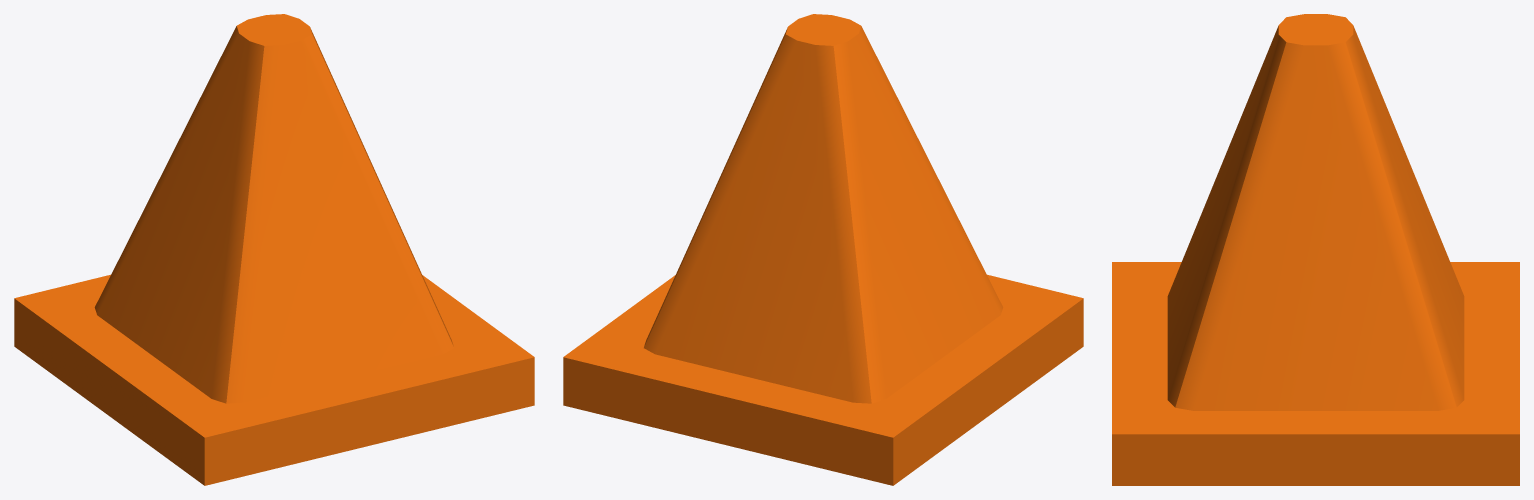
The model's file is parking cone.fbx.
3 renders of one model, left to right at view 1: azimuth 30°, elevation 25°; view 2: azimuth 150°, elevation 25°; view 3: azimuth 270°, elevation 25°, orthographic. The views are drawn at different scales.
Parts seen in each view (by area): view 1: parking_cone; view 2: parking_cone; view 3: parking_cone.
Part boxes in pixels (x1,y1,x2,y2): parking_cone: (14, 14, 534, 485); parking_cone: (563, 14, 1083, 485); parking_cone: (1112, 14, 1519, 485).
Size of the model in its own units: 74.88 by 75 by 74.88.
